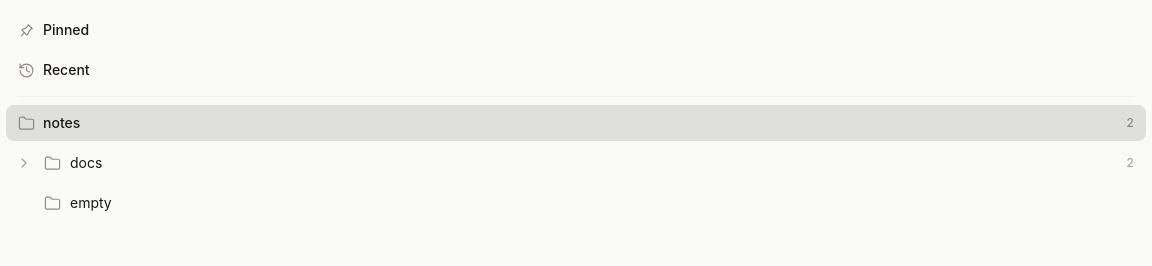
Test case: FolderTreeView › shows recursive folder note counts when enabled and still hides zero-count badges
Expected: the text "docs" is shown, [70, 154, 102, 171]
Expected: the text "empty" is shown, [70, 194, 112, 211]
Click the button named "Expand folder".
click(24, 163)  # box [14, 153, 34, 173]
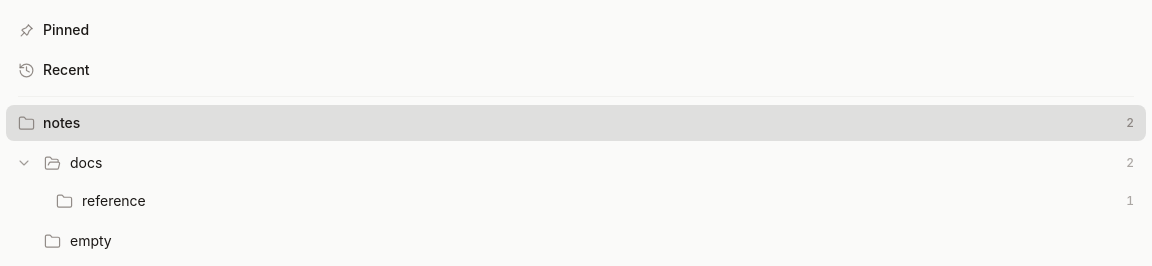
Expected: the text with class "ui-count-badge" in the row of "docs" reads "2", [1126, 155, 1134, 170]
Result: the text "reference" is shown at [82, 192, 146, 209]
Result: the text with class "ui-count-badge" reads "1" at [1126, 193, 1134, 208]
